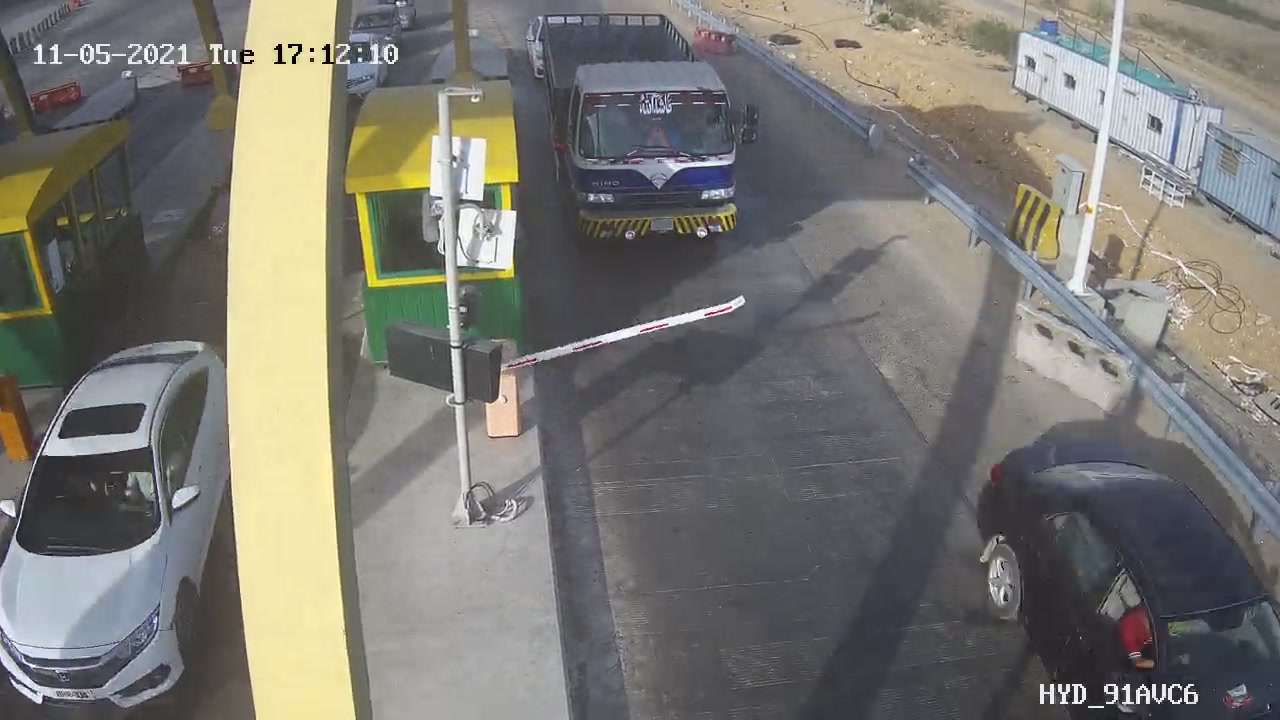F5: (526, 4, 782, 261)
